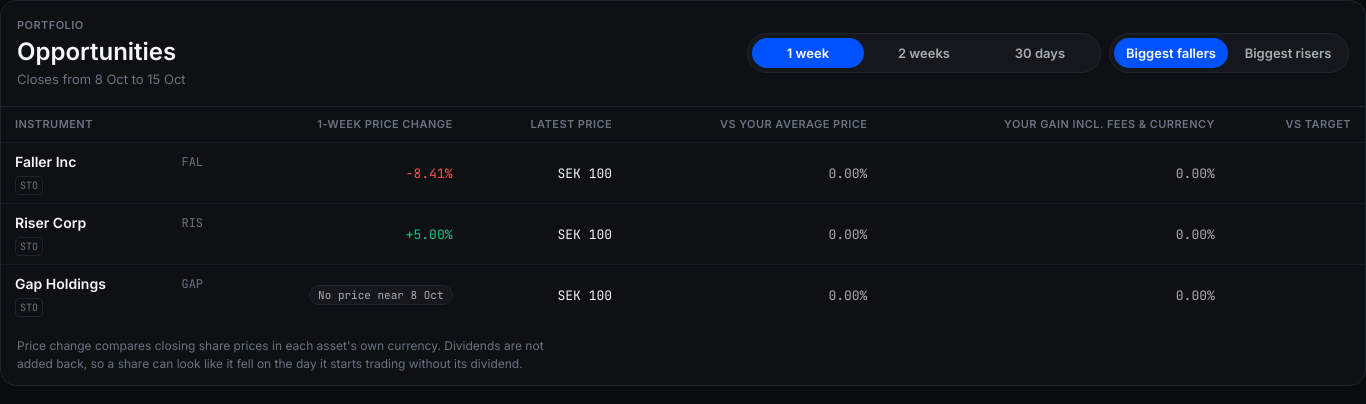
Test case: OpportunitiesPage › stops naming the period while the previous window's rows are shown
The width and height of the screenshot is (1366, 404).
What coordinates should you click on to do the following:
click the button "30 days"
I would click on:
 (1040, 53)
Its box is x1=984 y1=38 x2=1096 y2=68.
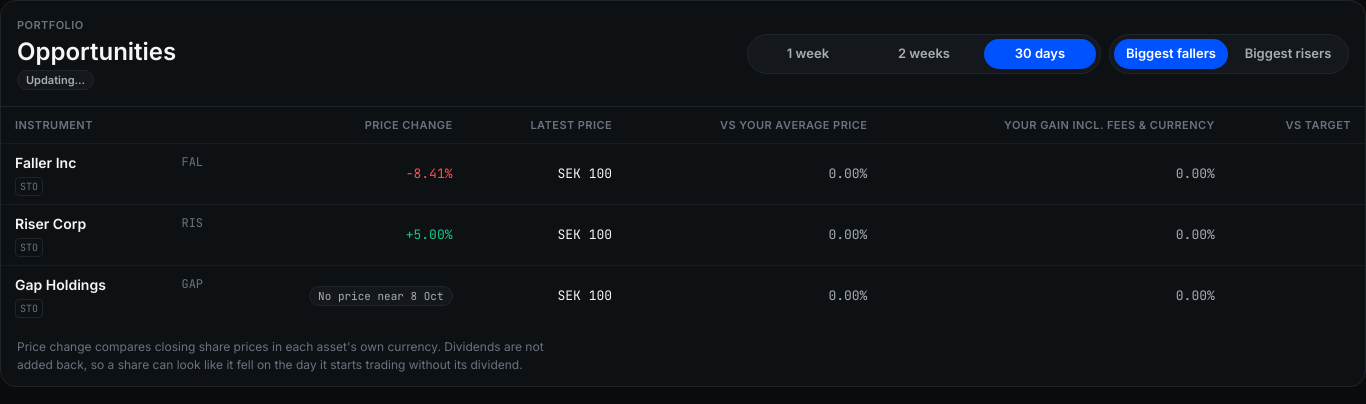
Result: the column heading "1-week price change" is gone
Result: the text "Updating…" is shown at x1=17 y1=70 x2=94 y2=90
Result: the text "Closes from" is gone
